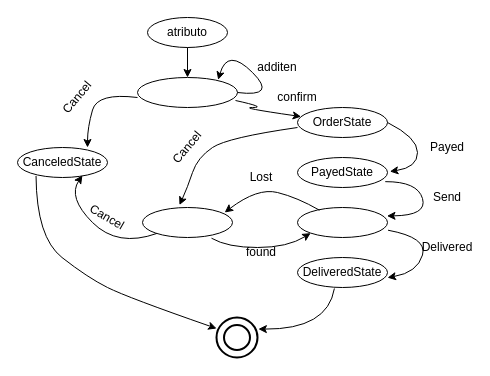
Image size: 490x376. Some labels were removed from this diagram. The shapes that lost their labels are listed below. From the top down, each one's centre as x and y in pixels, then its label:
At (187,92): "OpenState".
At (187,222): "LastState".
At (342,222): "SendState".
